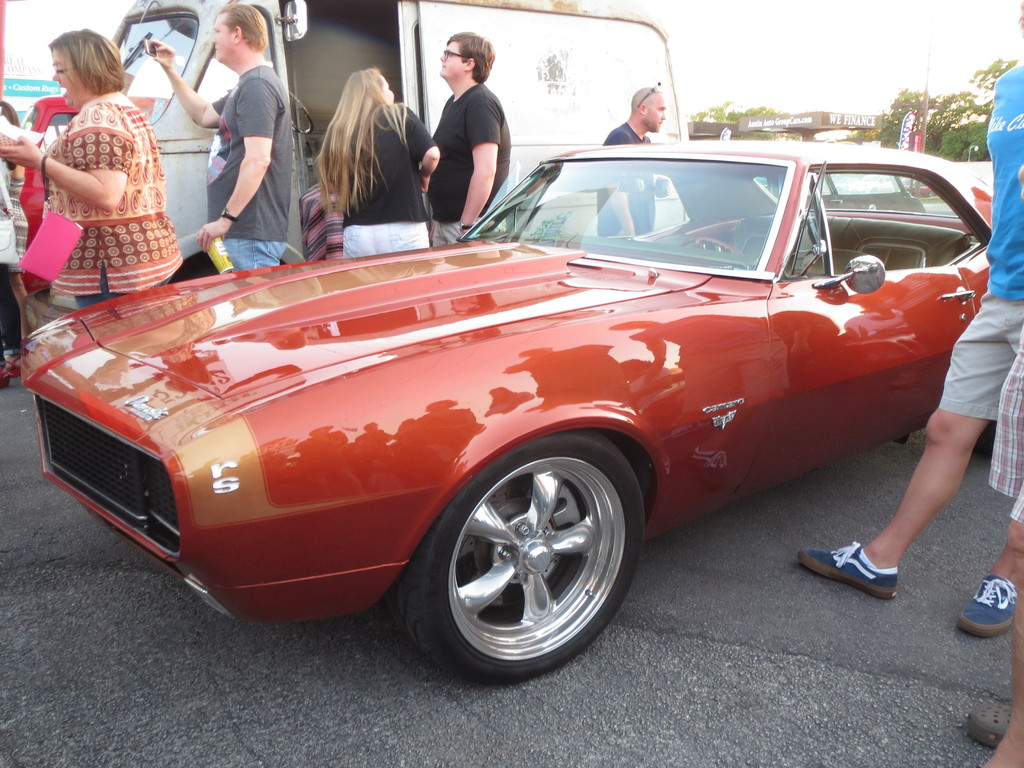Car: (14, 136, 995, 684), (12, 97, 162, 303), (905, 178, 930, 195)
